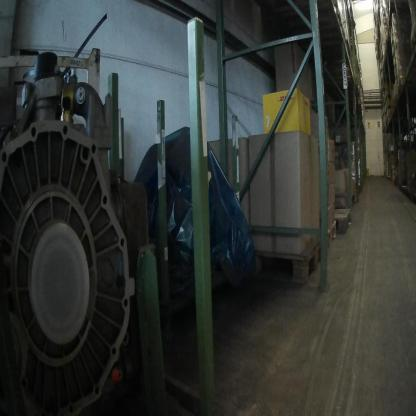pallet: (245, 234, 325, 287), (282, 4, 344, 31), (307, 218, 338, 263), (311, 30, 350, 62), (322, 64, 355, 87), (334, 206, 353, 240), (386, 0, 407, 21), (394, 73, 411, 97), (397, 183, 413, 201), (409, 28, 416, 53), (392, 101, 404, 111), (351, 189, 357, 209), (385, 111, 394, 122)
